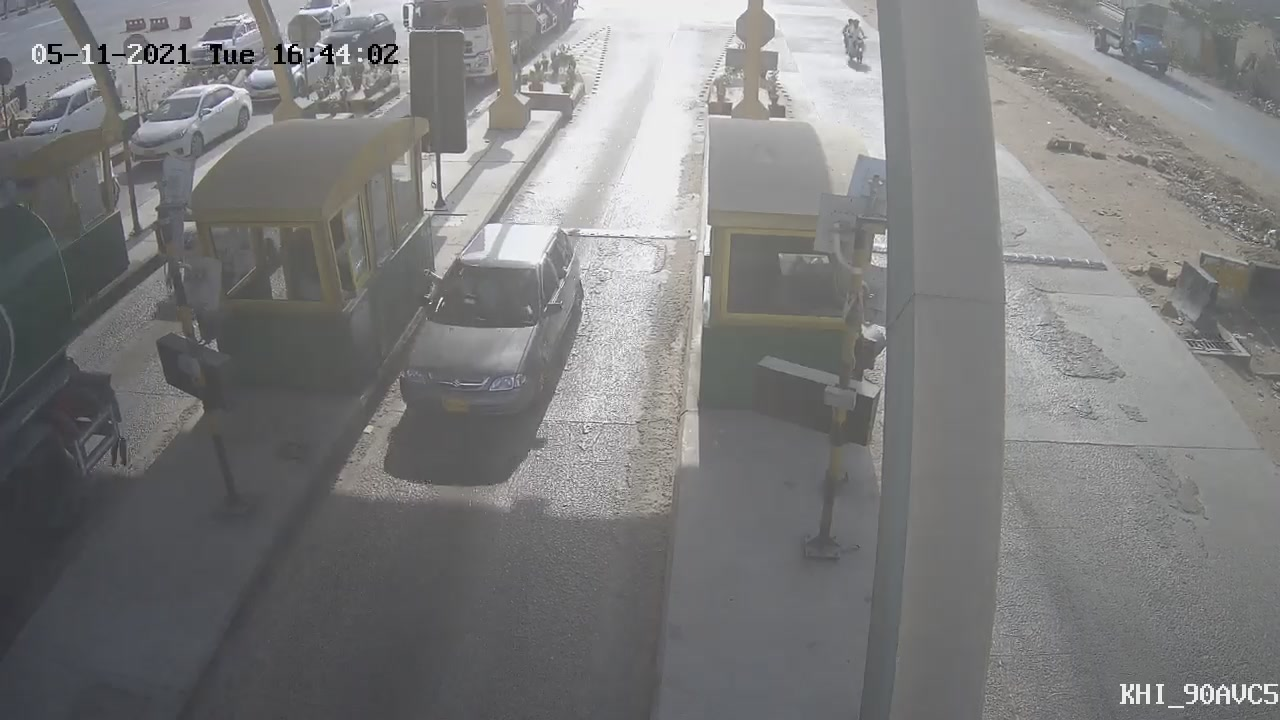F1: (378, 211, 607, 440)
